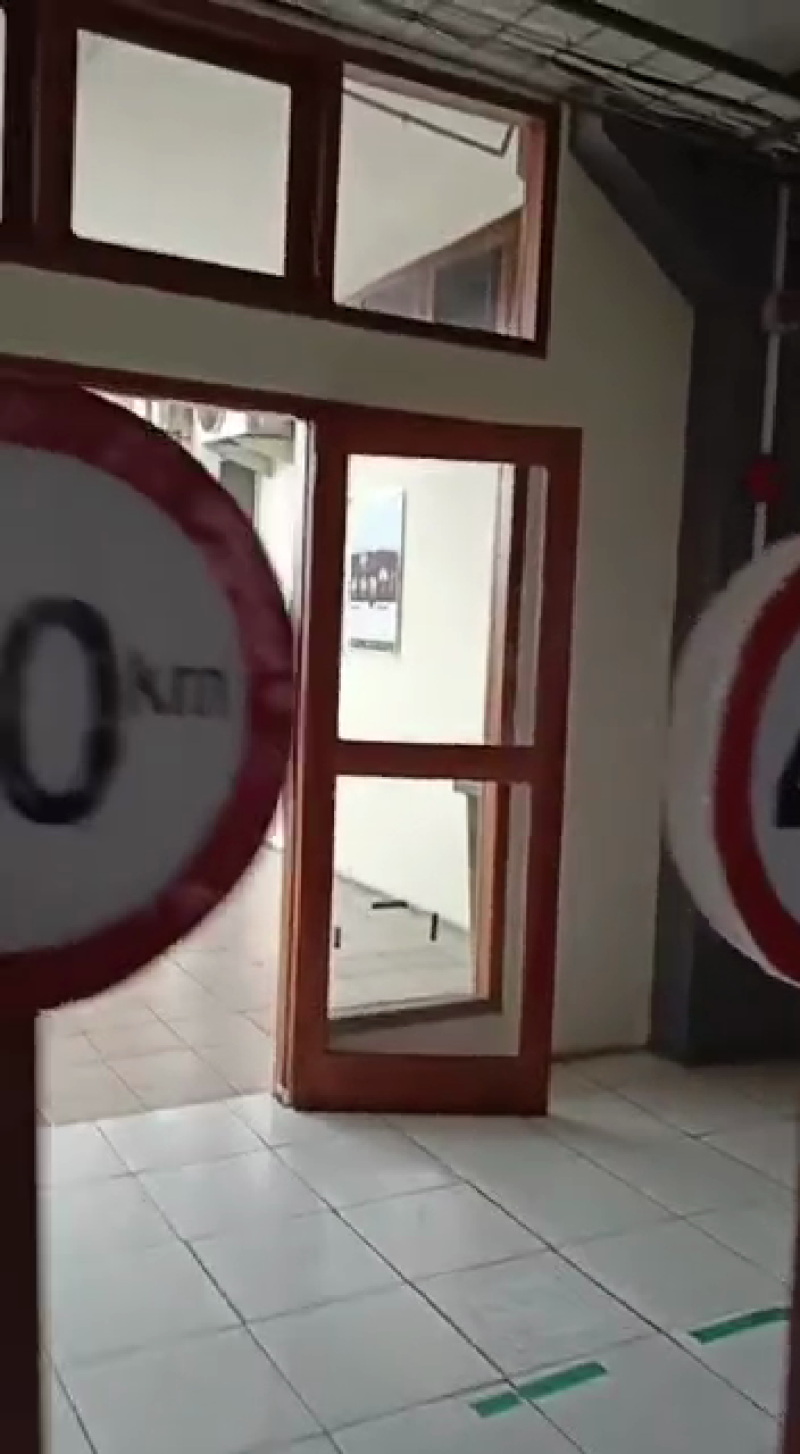batas maksimal 40kmperjam: (1, 364, 309, 1042)
